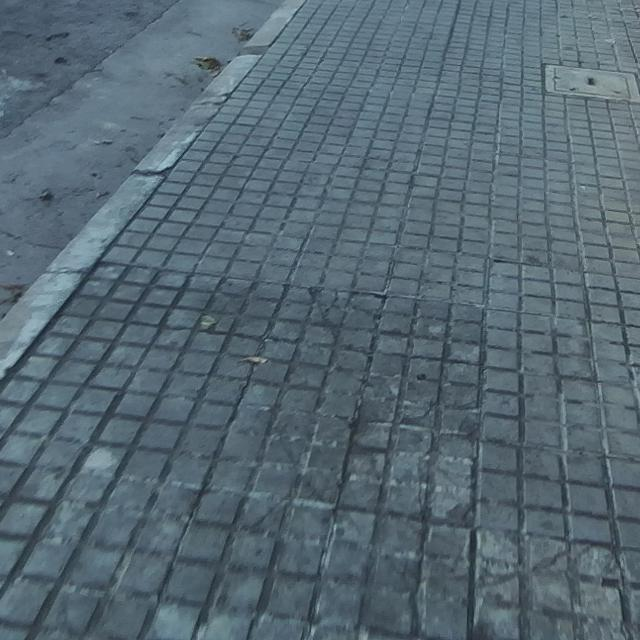calcada_quebrada: (392, 425, 446, 640), (470, 536, 620, 606), (247, 431, 327, 534), (301, 285, 345, 342), (389, 395, 442, 424)
